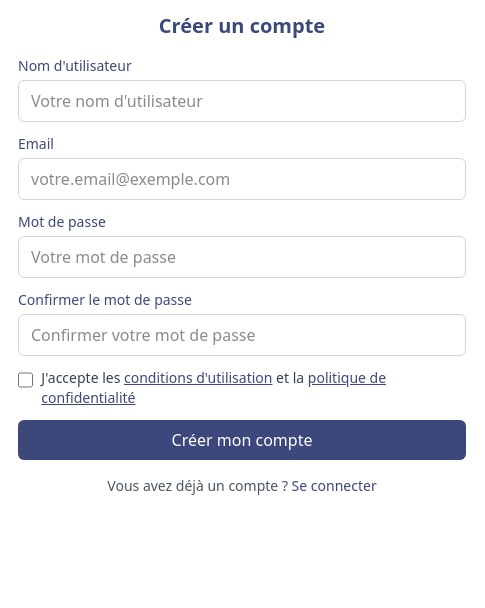
Scenario: Register › shows validation errors when fields are empty
This screenshot has width=485, height=608.
Click the button "Créer mon compte". click: (242, 440)
box: [18,420,466,460]
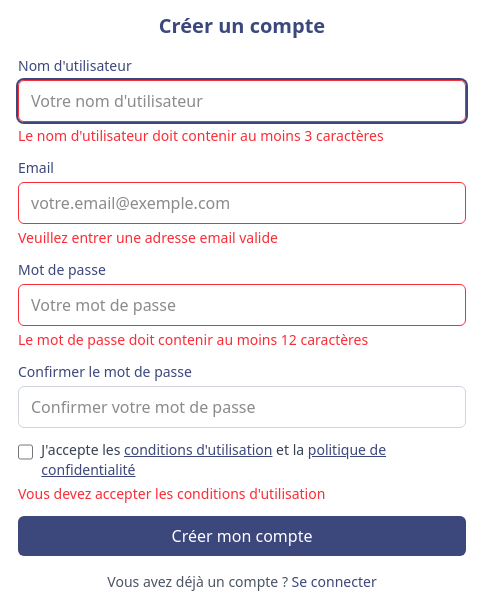
Check: the text "Le nom d'utilisateur doit contenir au moins 3 caractères" is shown, box [18,126,384,145]
Check: the text "Veuillez entrer une adresse email valide" is shown, box [18,228,278,247]
Check: the text "Le mot de passe doit contenir au moins 12 caractères" is shown, box [18,330,368,349]
